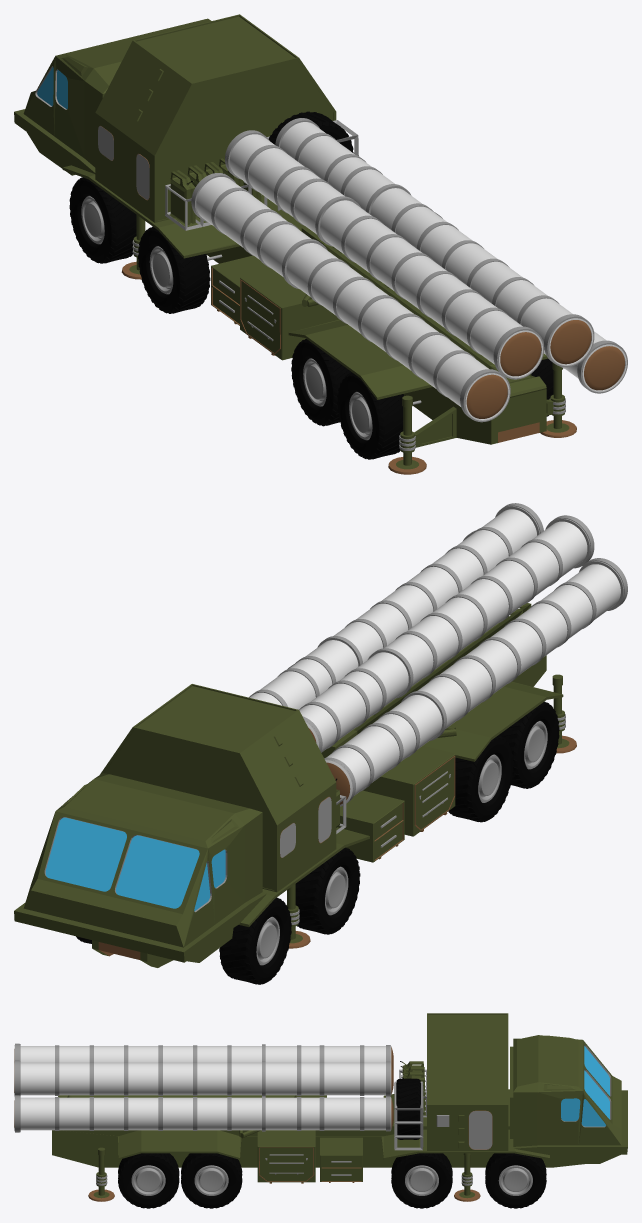
The picture shows the model from 3 angles, top to bottom: view 1: azimuth 30°, elevation 25°; view 2: azimuth 150°, elevation 25°; view 3: azimuth 270°, elevation 25°; orthographic projection. The views are drawn at different scales.
Parts seen in each view (by area): view 1: Tech, Tube.001, Tube.003, Tube.002, Core, Cockpit, Box.002, Wheel.006, Wheel.007, Wheel.002, Wheel.003, Tube (+6 smaller); view 2: Cockpit, Tech, Tube.001, Tube.003, Tube.002, Core, Box.002, Wheel.007, Wheel.006, Wheel.003, Wheel.002, Box.003 (+1 smaller); view 3: Cockpit, Tube, Tube.002, Tech, Core, Tube.003, Box.001, Wheel.005, Wheel.001, Wheel, Wheel.004, Box (+5 smaller).
Boxes of the visible parts, x1,y1,x2,y2 form: Tech: (95,14,336,222); Tube.001: (192,173,510,422); Tube.003: (226,131,544,379); Tube.002: (276,119,594,367); Core: (62,165,553,447); Cockpit: (14,18,211,175); Box.002: (240,269,339,360); Wheel.006: (138,226,210,313); Wheel.007: (69,177,136,263); Wheel.002: (337,372,403,459); Wheel.003: (291,339,351,426); Tube: (348,149,627,393); Cockpit: (14,773,266,962); Tech: (100,684,336,892); Tube.001: (324,558,627,801); Tube.003: (299,515,594,752); Tube.002: (249,503,543,709); Core: (92,616,563,967); Box.002: (363,746,455,836); Wheel.007: (219,897,291,984); Wheel.006: (295,847,360,934); Wheel.003: (448,735,513,822); Wheel.002: (499,701,559,788); Box.003: (338,790,404,862); Cockpit: (510,1035,627,1163); Tube: (14,1095,388,1132); Tube.002: (14,1060,388,1096); Tech: (427,1013,508,1150); Core: (52,1089,584,1167); Tube.003: (14,1043,388,1064); Box.001: (257,1130,315,1183); Wheel.005: (391,1153,452,1208); Wheel.001: (118,1153,179,1208); Wheel: (181,1153,242,1208); Wheel.004: (485,1153,546,1208); Box: (320,1137,362,1182).
Bounding box in the file's own units: 336 × 373 × 1400.
